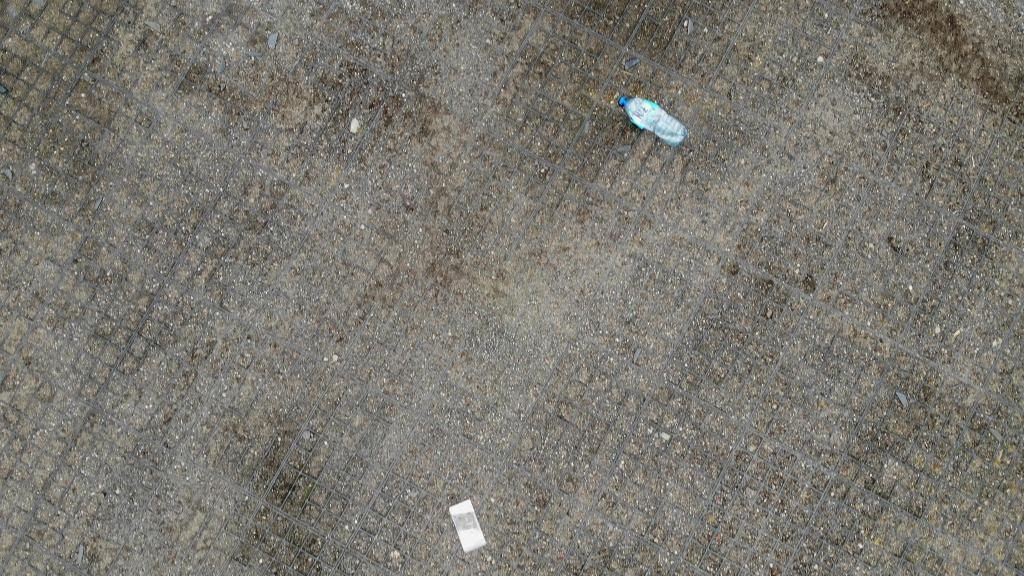garbage: (616, 94, 688, 145), (448, 497, 488, 556)
